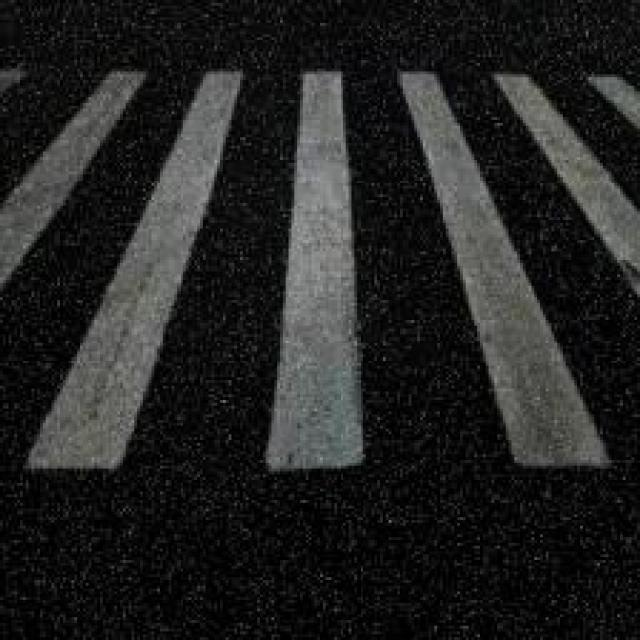crosswalk: (1, 62, 639, 480)
